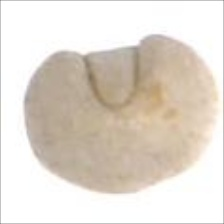L5: (81, 44, 145, 114), (103, 174, 181, 196)
L6: (22, 33, 221, 197)
